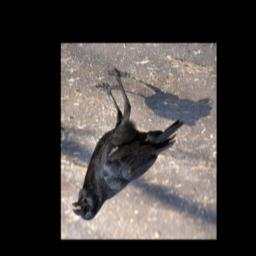Crow: (72, 67, 184, 222)
